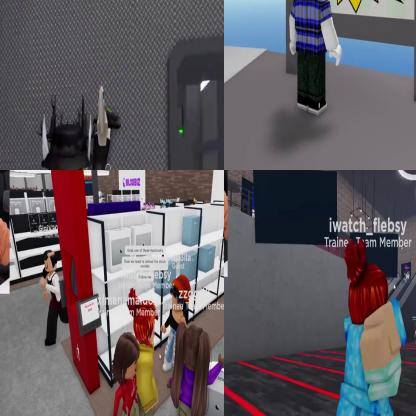Roblox-Avatar: (318, 238, 409, 416), (14, 87, 122, 170), (290, 1, 343, 117), (168, 322, 224, 416), (127, 288, 160, 416), (162, 276, 192, 374), (41, 251, 70, 348), (112, 332, 144, 416)
